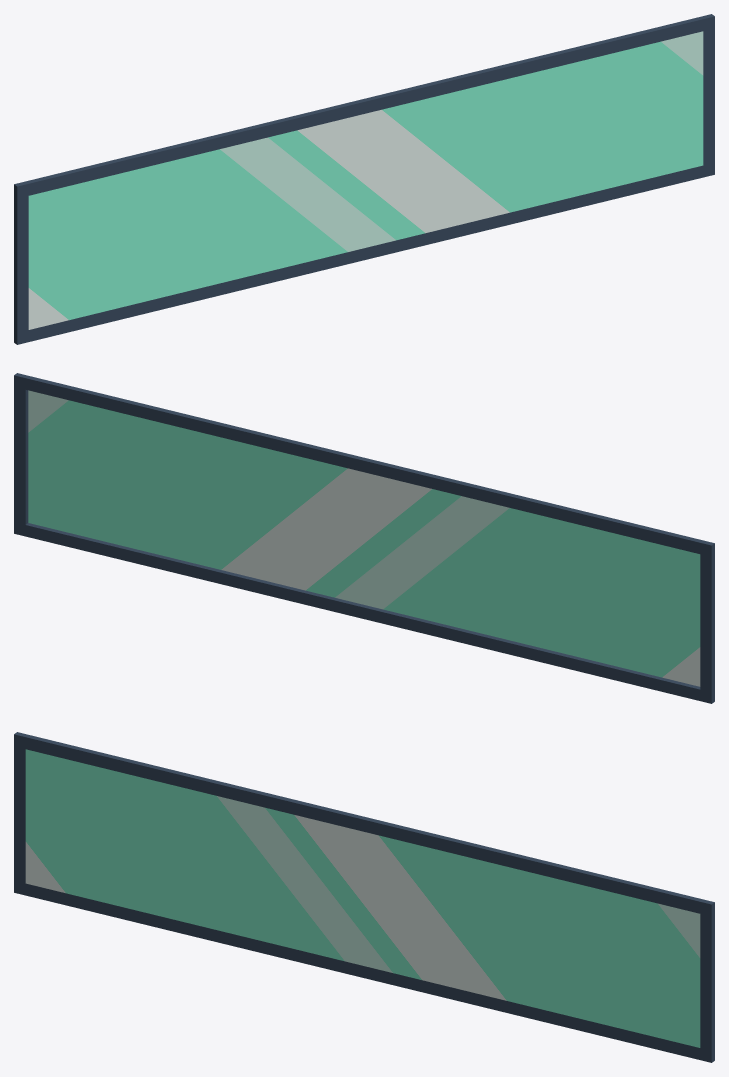
File: Mirror_geo.fbx
3 views of the same model, one above another, from view 1: azimuth 30°, elevation 25°; view 2: azimuth 150°, elevation 25°; view 3: azimuth 330°, elevation 25° (orthographic).
Visible parts, largest first — view 1: Mirror_geo; view 2: Mirror_geo; view 3: Mirror_geo.
Boxes of the visible parts, x1,y1,x2,y2 form: Mirror_geo: [14, 14, 714, 344]; Mirror_geo: [14, 373, 714, 703]; Mirror_geo: [14, 732, 714, 1062].
Size of the model in its own units: 5.66 by 0.0449 by 1.23.
